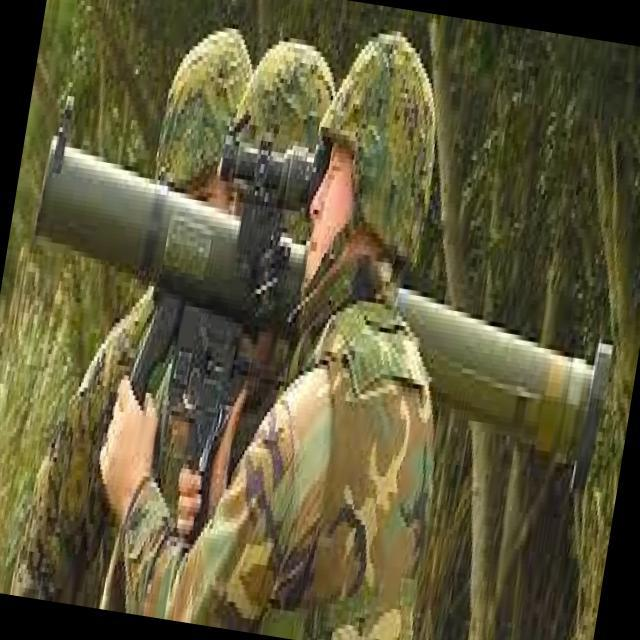rocket: (1, 109, 640, 503)
